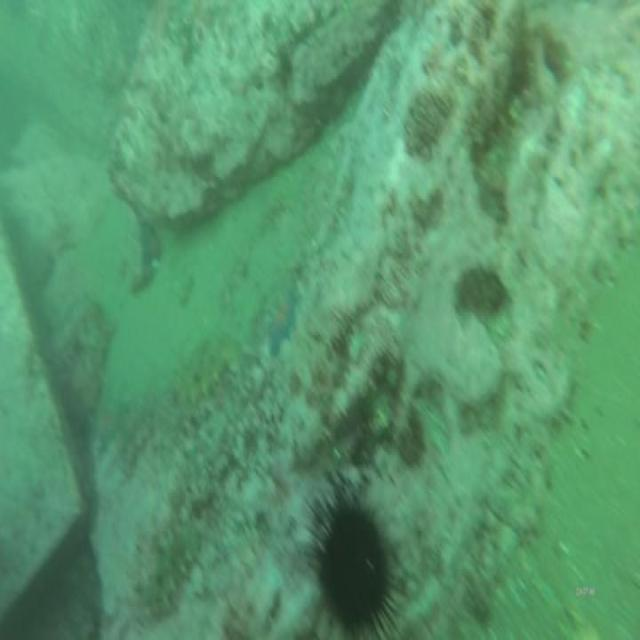echinus: (314, 496, 393, 632)
holothurian: (167, 328, 244, 418), (142, 518, 198, 613)
starfish: (263, 286, 302, 362)
